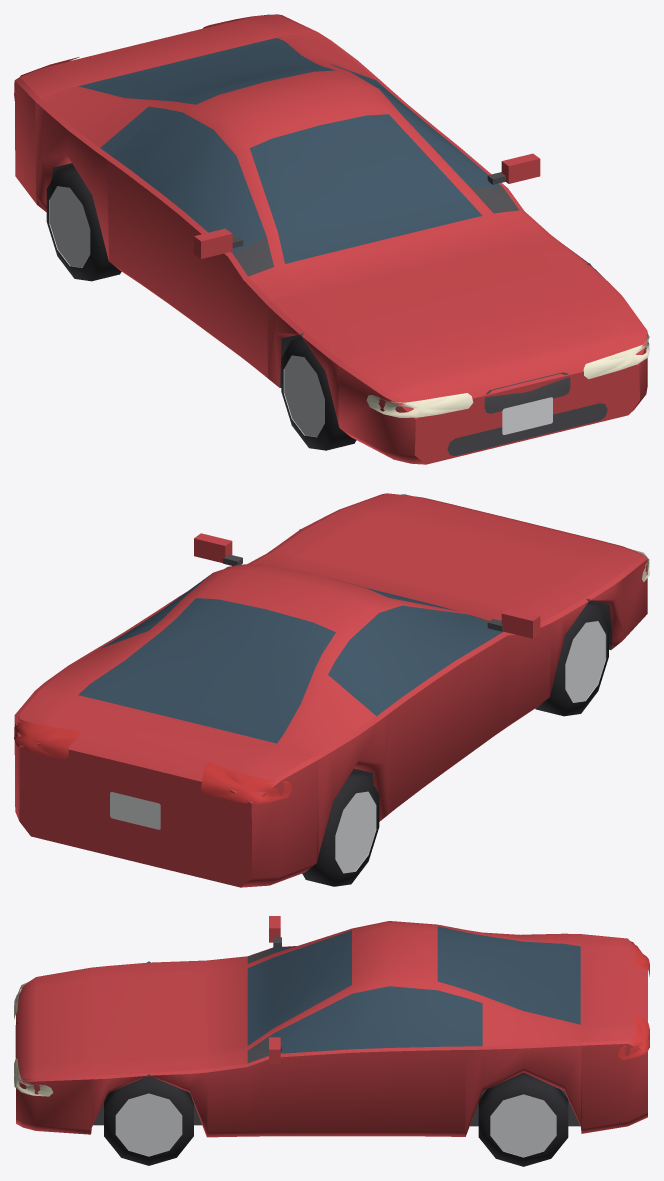
3 renders of one model, top to bottom at view 1: azimuth 30°, elevation 25°; view 2: azimuth 150°, elevation 25°; view 3: azimuth 270°, elevation 25°, orthographic. The views are drawn at different scales.
Parts seen in each view (by area): view 1: 358; view 2: 358; view 3: 358.
Part boxes in pixels (bbox=[...]): 358: bbox=[14, 14, 649, 464]; 358: bbox=[14, 493, 649, 887]; 358: bbox=[14, 916, 649, 1166].
Bounding box in the file's own units: 2.21 × 1.3 × 4.45.
